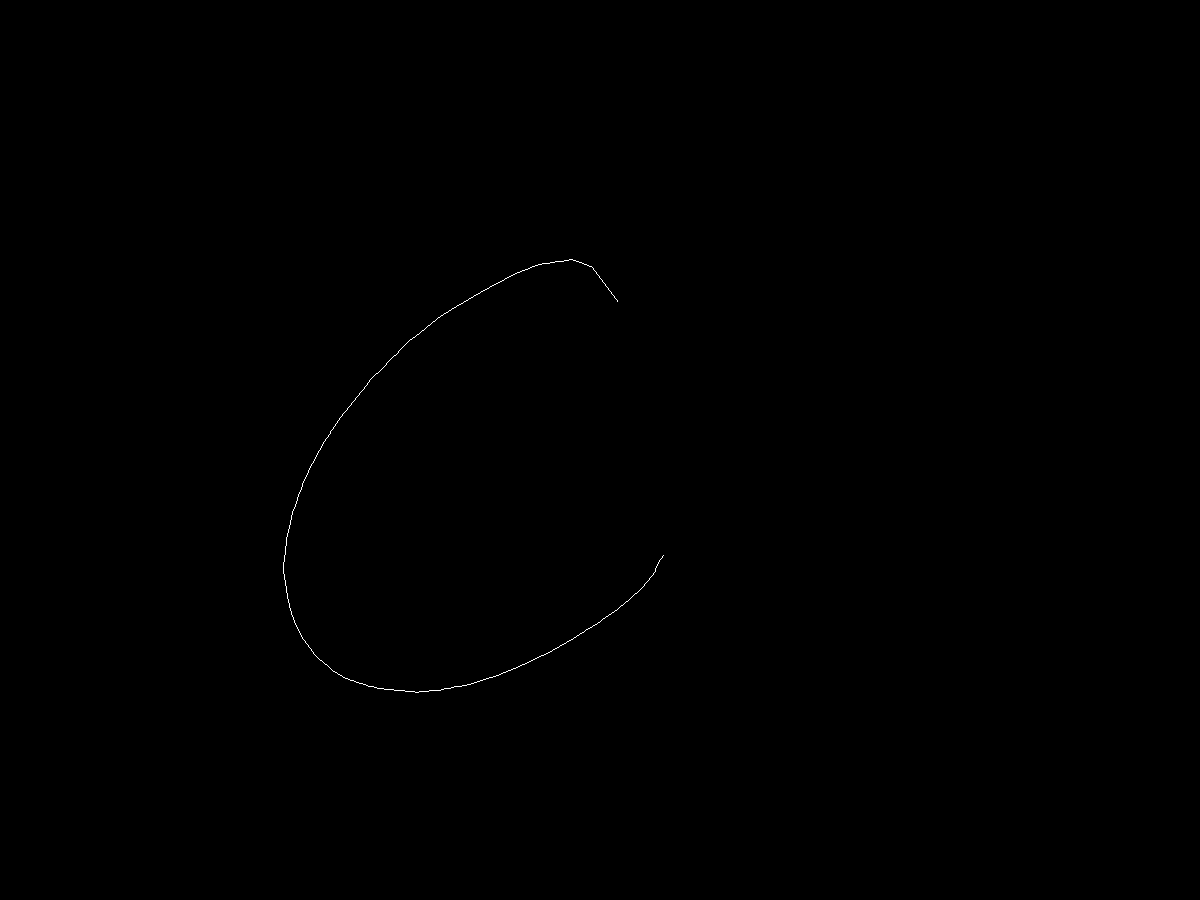dian1: (608, 292, 631, 314)
dian2: (653, 545, 674, 567)
